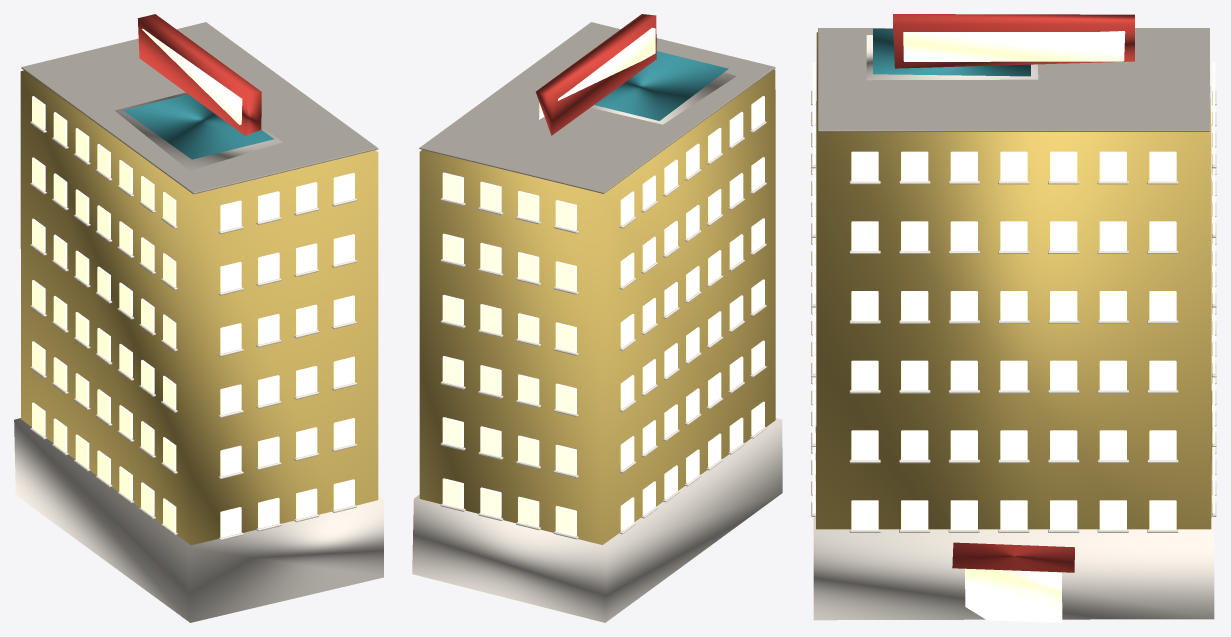
The model's file is hotel.glb.
3 renders of one model, left to right at view 1: azimuth 30°, elevation 25°; view 2: azimuth 150°, elevation 25°; view 3: azimuth 270°, elevation 25°, orthographic. The views are drawn at different scales.
Parts seen in each view (by area): view 1: hotel; view 2: hotel; view 3: hotel.
Part boxes in pixels (box(x1,y1,x2,y2)): hotel: box(14, 14, 383, 622); hotel: box(412, 14, 782, 622); hotel: box(811, 14, 1216, 622).
Size of the model in its own units: 12.77 by 24.47 by 16.34.
Materials: 1 (1 with a texture image).
